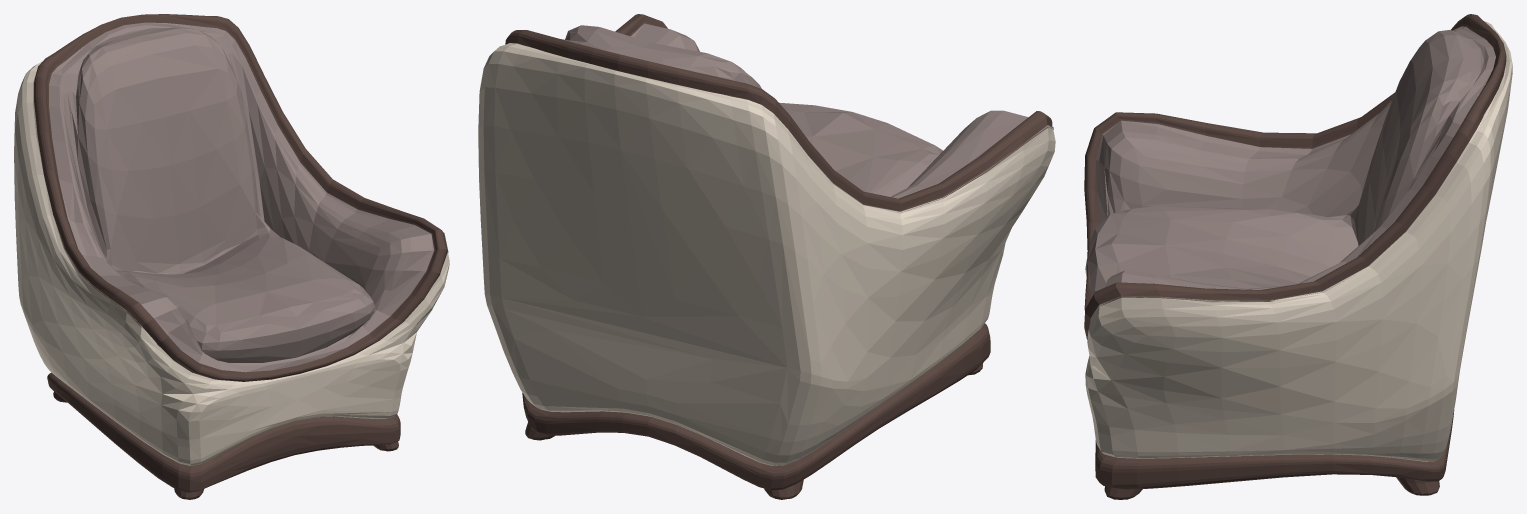
File: sh-bsby-armchair1.glb
3 renders of one model, left to right at view 1: azimuth 30°, elevation 25°; view 2: azimuth 150°, elevation 25°; view 3: azimuth 270°, elevation 25°, orthographic. The views are drawn at different scales.
Visible parts, largest first — view 1: Armchair; view 2: Armchair; view 3: Armchair.
Boxes of the visible parts, bbox=[...] form: Armchair: bbox=[14, 14, 449, 499]; Armchair: bbox=[478, 14, 1055, 499]; Armchair: bbox=[1084, 14, 1512, 499].
Size of the model in its own units: 1 by 0.9996 by 1.
